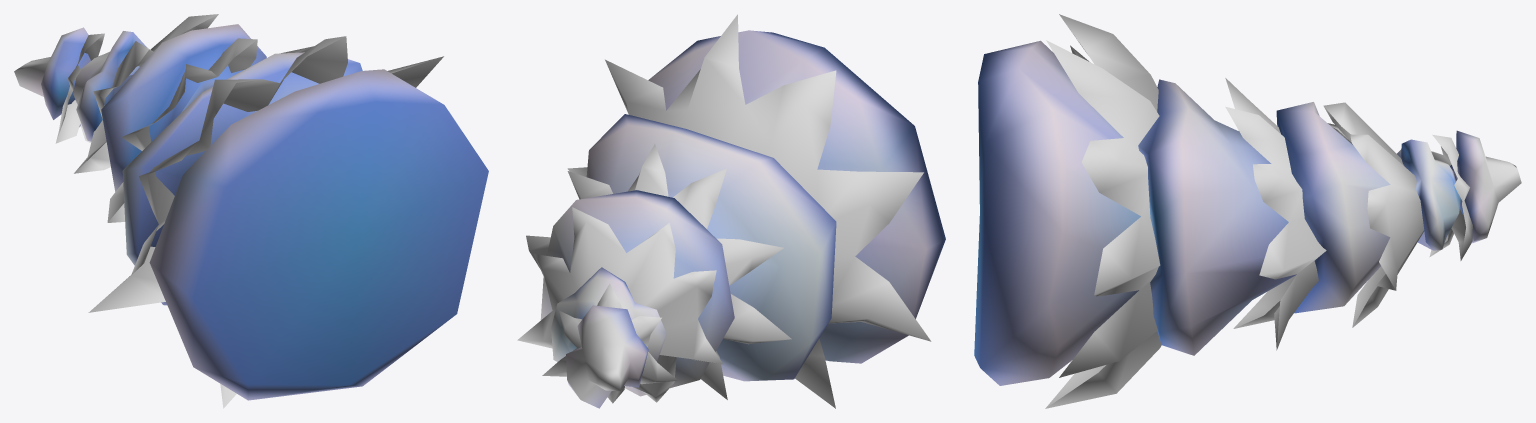
The model's file is SnowyPineTreeCurved.fbx.
3 views of the same model, side by side, from view 1: azimuth 30°, elevation 25°; view 2: azimuth 150°, elevation 25°; view 3: azimuth 270°, elevation 25° (orthographic). The views are drawn at different scales.
Parts seen in each view (by area): view 1: SnowyPineTreeCurved; view 2: SnowyPineTreeCurved; view 3: SnowyPineTreeCurved.
Boxes of the visible parts, left/top/right/bottom form: SnowyPineTreeCurved: left=14, top=14, right=488, bottom=408; SnowyPineTreeCurved: left=517, top=14, right=945, bottom=408; SnowyPineTreeCurved: left=974, top=14, right=1521, bottom=408.
Size of the model in its own units: 597 by 546 by 727.
